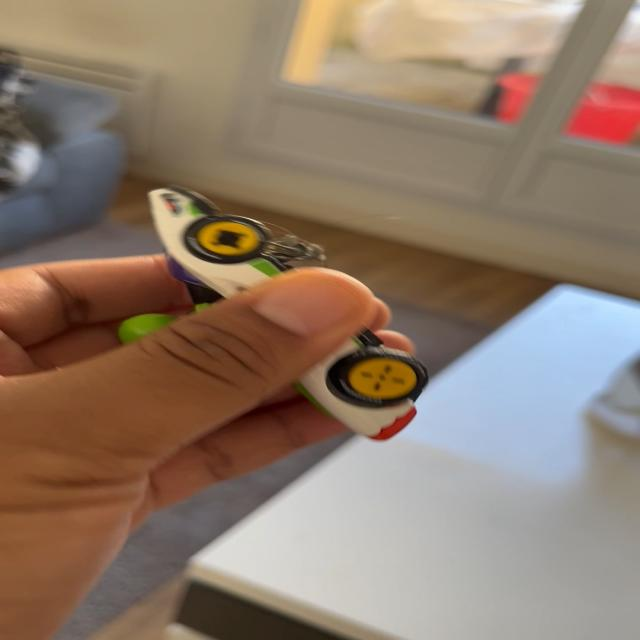yoshi: (112, 172, 434, 450)
